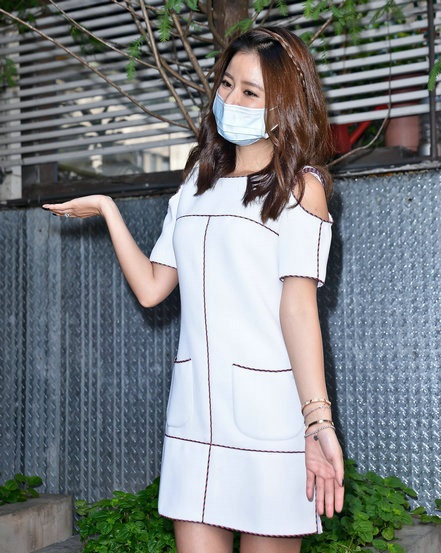face_mask: (215, 48, 271, 143)
